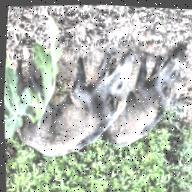boar: (5, 33, 146, 173), (84, 16, 192, 179)
